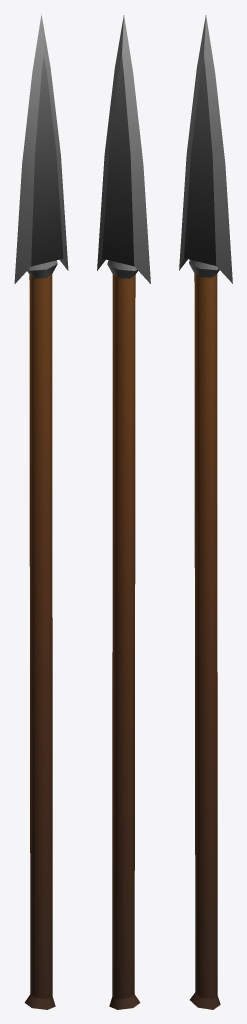
The model's file is Polearm2h_01.fbx.
3 renders of one model, left to right at view 1: azimuth 30°, elevation 25°; view 2: azimuth 150°, elevation 25°; view 3: azimuth 330°, elevation 25°, orthographic.
Visible parts, largest first — view 1: Polearm2h_01; view 2: Polearm2h_01; view 3: Polearm2h_01.
Part boxes in pixels (x1,y1,x2,y2): Polearm2h_01: [14, 14, 68, 1009]; Polearm2h_01: [97, 15, 150, 1009]; Polearm2h_01: [179, 15, 232, 1009].
Bounding box in the file's own units: 10.45 × 184 × 4.91.
